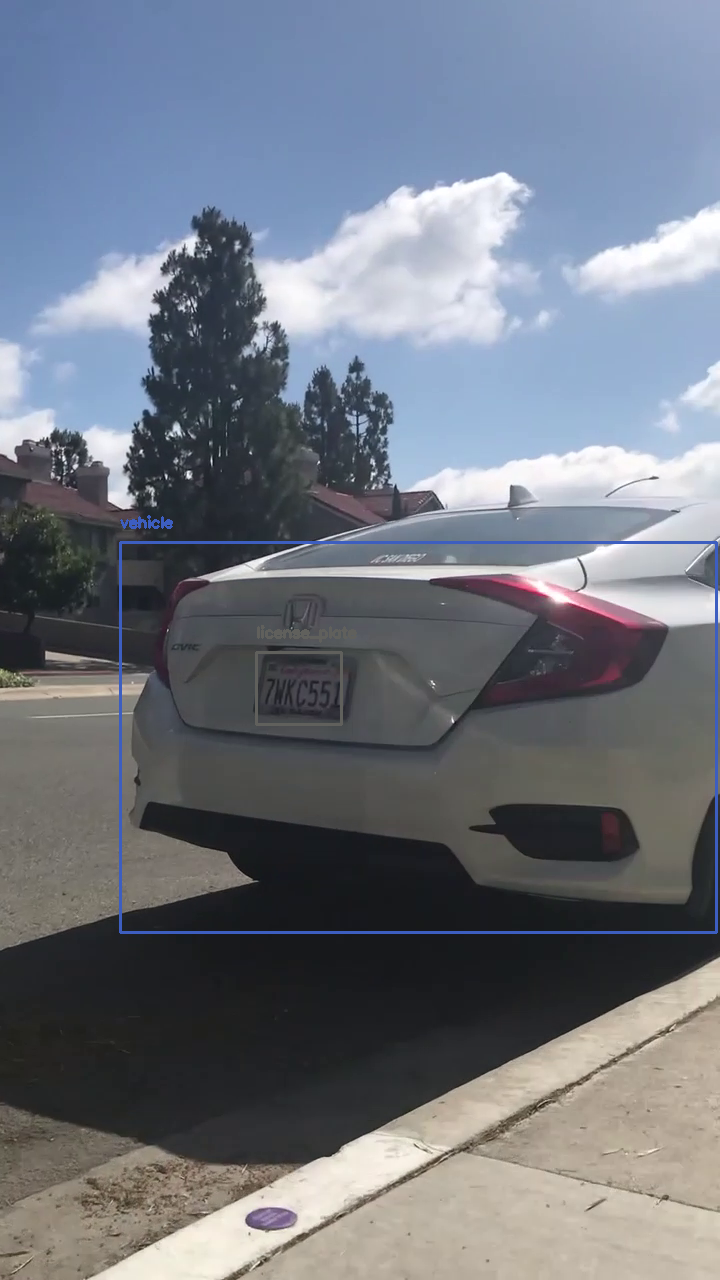license_plate: (256, 652, 341, 724)
vehicle: (120, 542, 716, 932)
